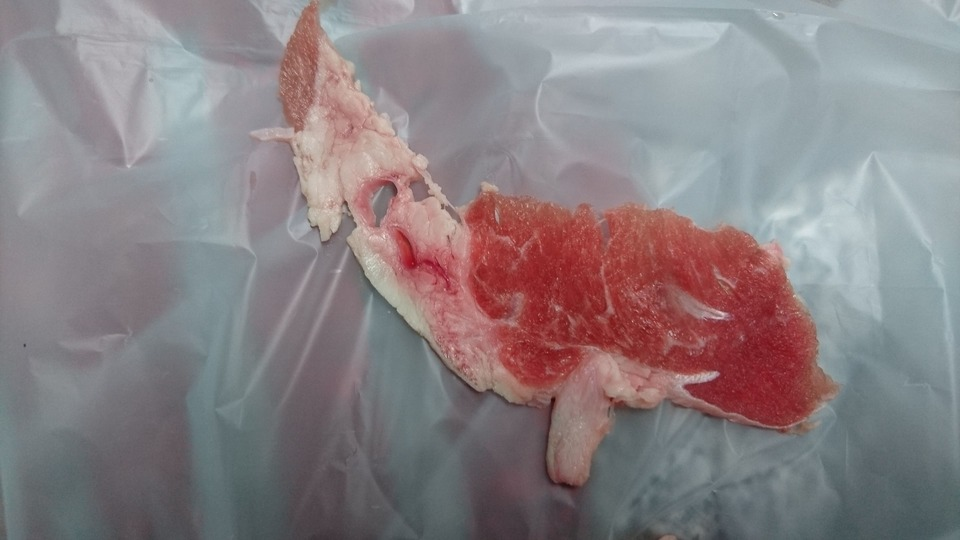restructured meat: (258, 22, 848, 463)
